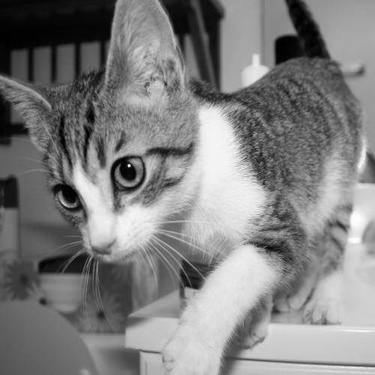cat: (1, 1, 343, 363)
